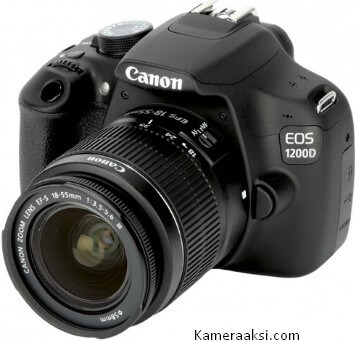kamera: (1, 1, 355, 341)
